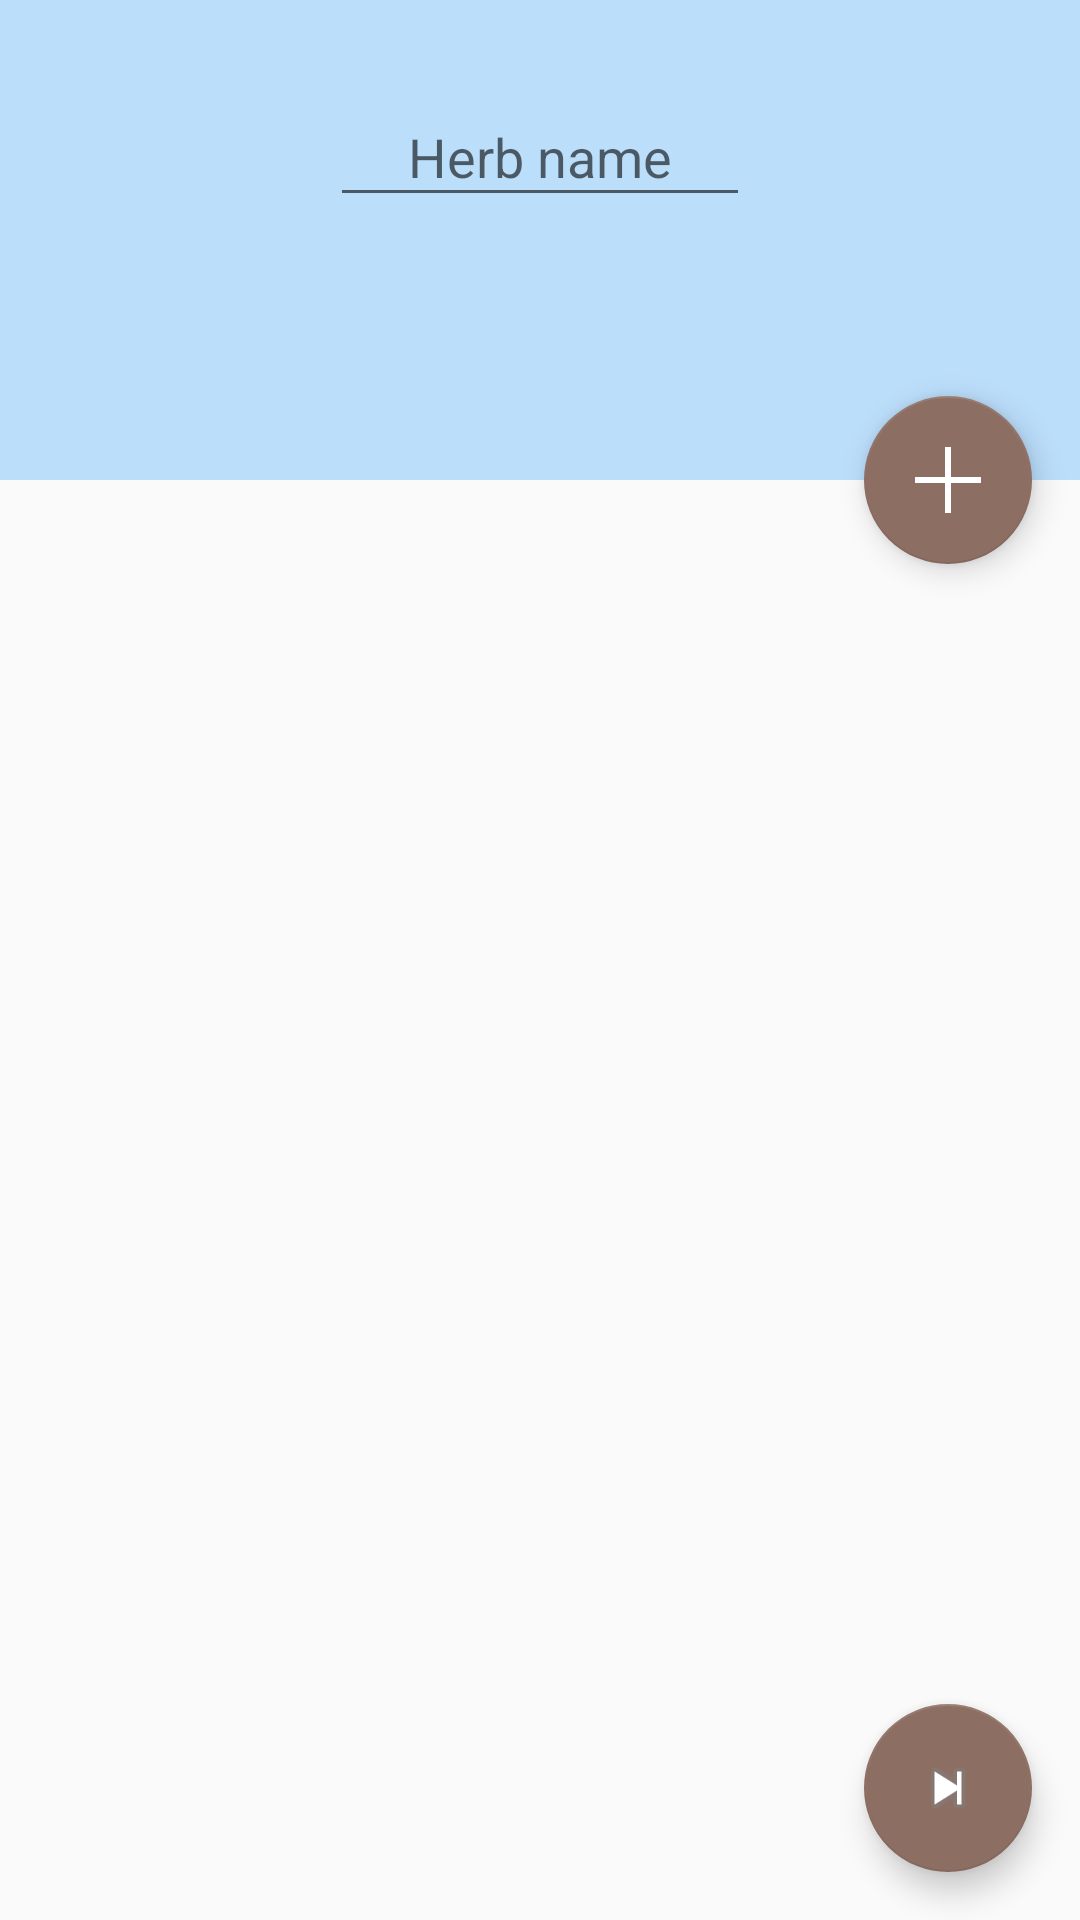

Screen size 1080 × 1920. Icon name, then its center in pixels as (x=x, y=y):
next: (x=948, y=1788)
plus: (x=948, y=480)
